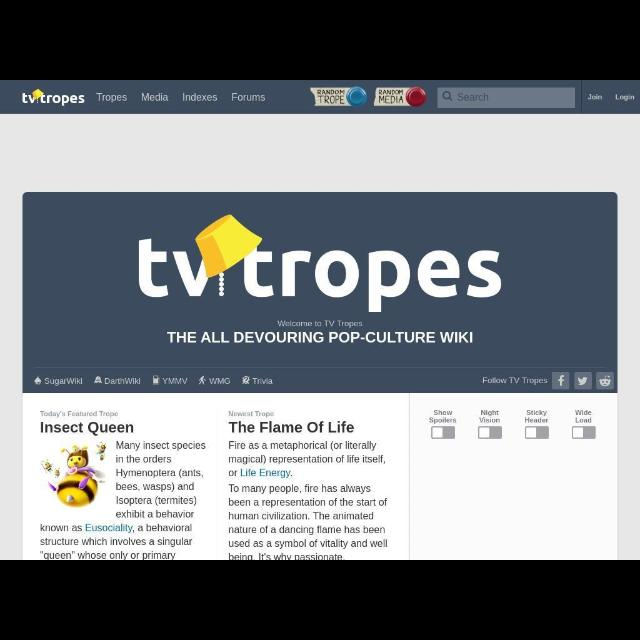icon: (442, 90, 452, 102), (241, 375, 251, 385), (34, 376, 42, 386), (152, 375, 160, 385), (94, 376, 102, 384), (198, 376, 206, 384)
image: (138, 213, 504, 313), (41, 441, 108, 509), (372, 86, 428, 108), (21, 88, 85, 106), (309, 88, 367, 106), (552, 371, 570, 389), (575, 372, 593, 390), (596, 372, 614, 390)
input: (438, 88, 576, 108)
multitab: (34, 376, 274, 386), (96, 92, 268, 104)
switch: (478, 426, 502, 440), (572, 426, 596, 440), (430, 426, 456, 438), (524, 426, 550, 438)
text: (228, 440, 388, 560), (116, 440, 207, 520), (38, 524, 194, 558), (166, 330, 474, 344), (227, 422, 355, 434), (40, 421, 134, 437), (278, 319, 364, 329), (40, 409, 118, 418), (482, 376, 548, 386), (228, 410, 274, 420), (182, 91, 218, 103), (44, 376, 84, 386), (430, 410, 458, 424), (96, 92, 128, 104), (104, 376, 142, 386), (231, 91, 265, 102), (140, 91, 168, 103), (526, 410, 548, 424), (456, 92, 489, 101), (480, 409, 500, 423), (162, 376, 188, 386), (208, 376, 232, 386), (251, 376, 273, 386), (574, 410, 592, 422), (614, 93, 636, 101), (587, 93, 603, 101)
